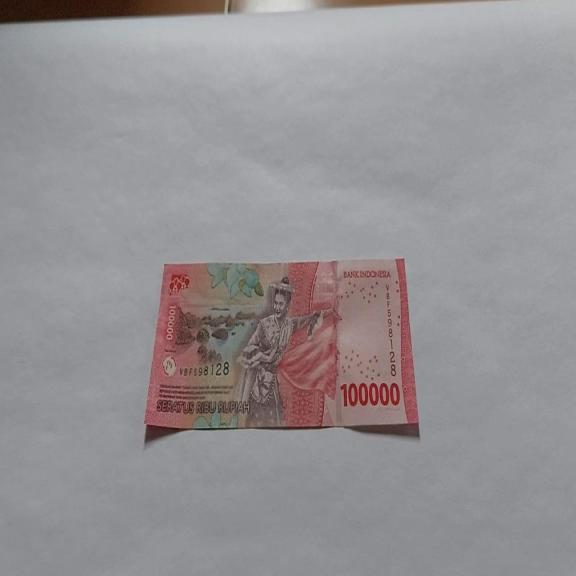Kertas: (144, 257, 420, 437), (340, 379, 400, 408)
